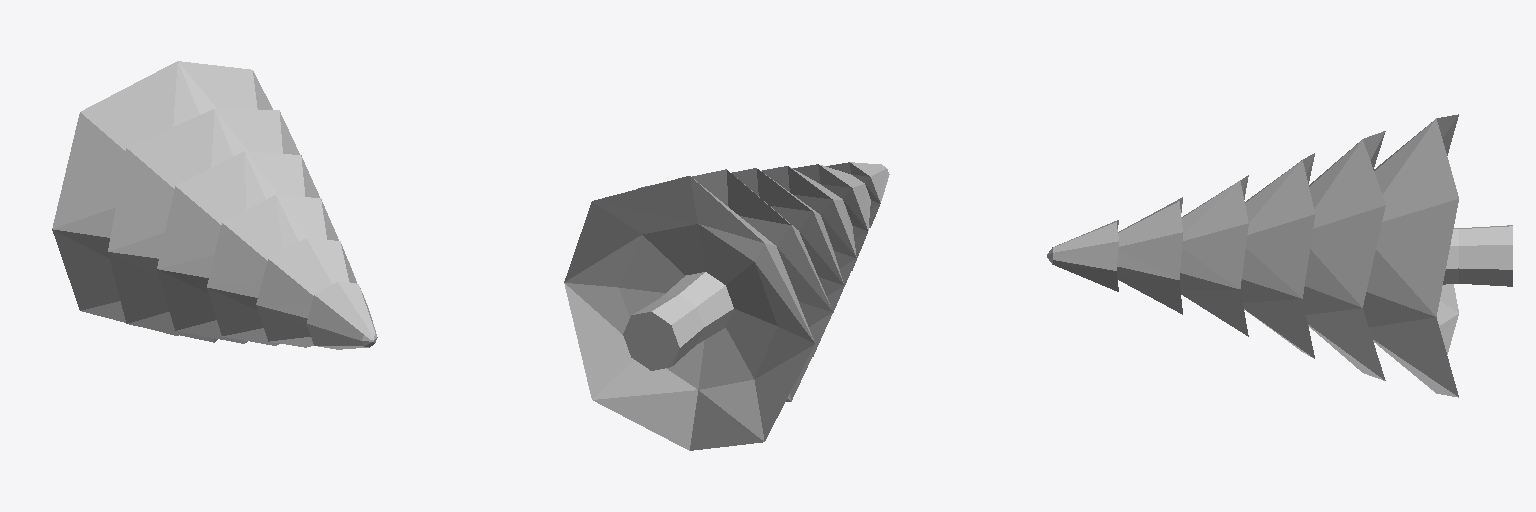
The model's file is simplePine.obj.
3 renders of one model, left to right at view 1: azimuth 30°, elevation 25°; view 2: azimuth 150°, elevation 25°; view 3: azimuth 270°, elevation 25°, orthographic.
Parts seen in each view (by area): view 1: Norm_PineTree_Cylinder; view 2: Norm_PineTree_Cylinder; view 3: Norm_PineTree_Cylinder.
Part boxes in pixels (x1,y1,x2,y2): Norm_PineTree_Cylinder: (52,61,377,349); Norm_PineTree_Cylinder: (564,162,889,450); Norm_PineTree_Cylinder: (1047,114,1512,397).
Size of the model in its own units: 3.32 by 3.48 by 5.34.